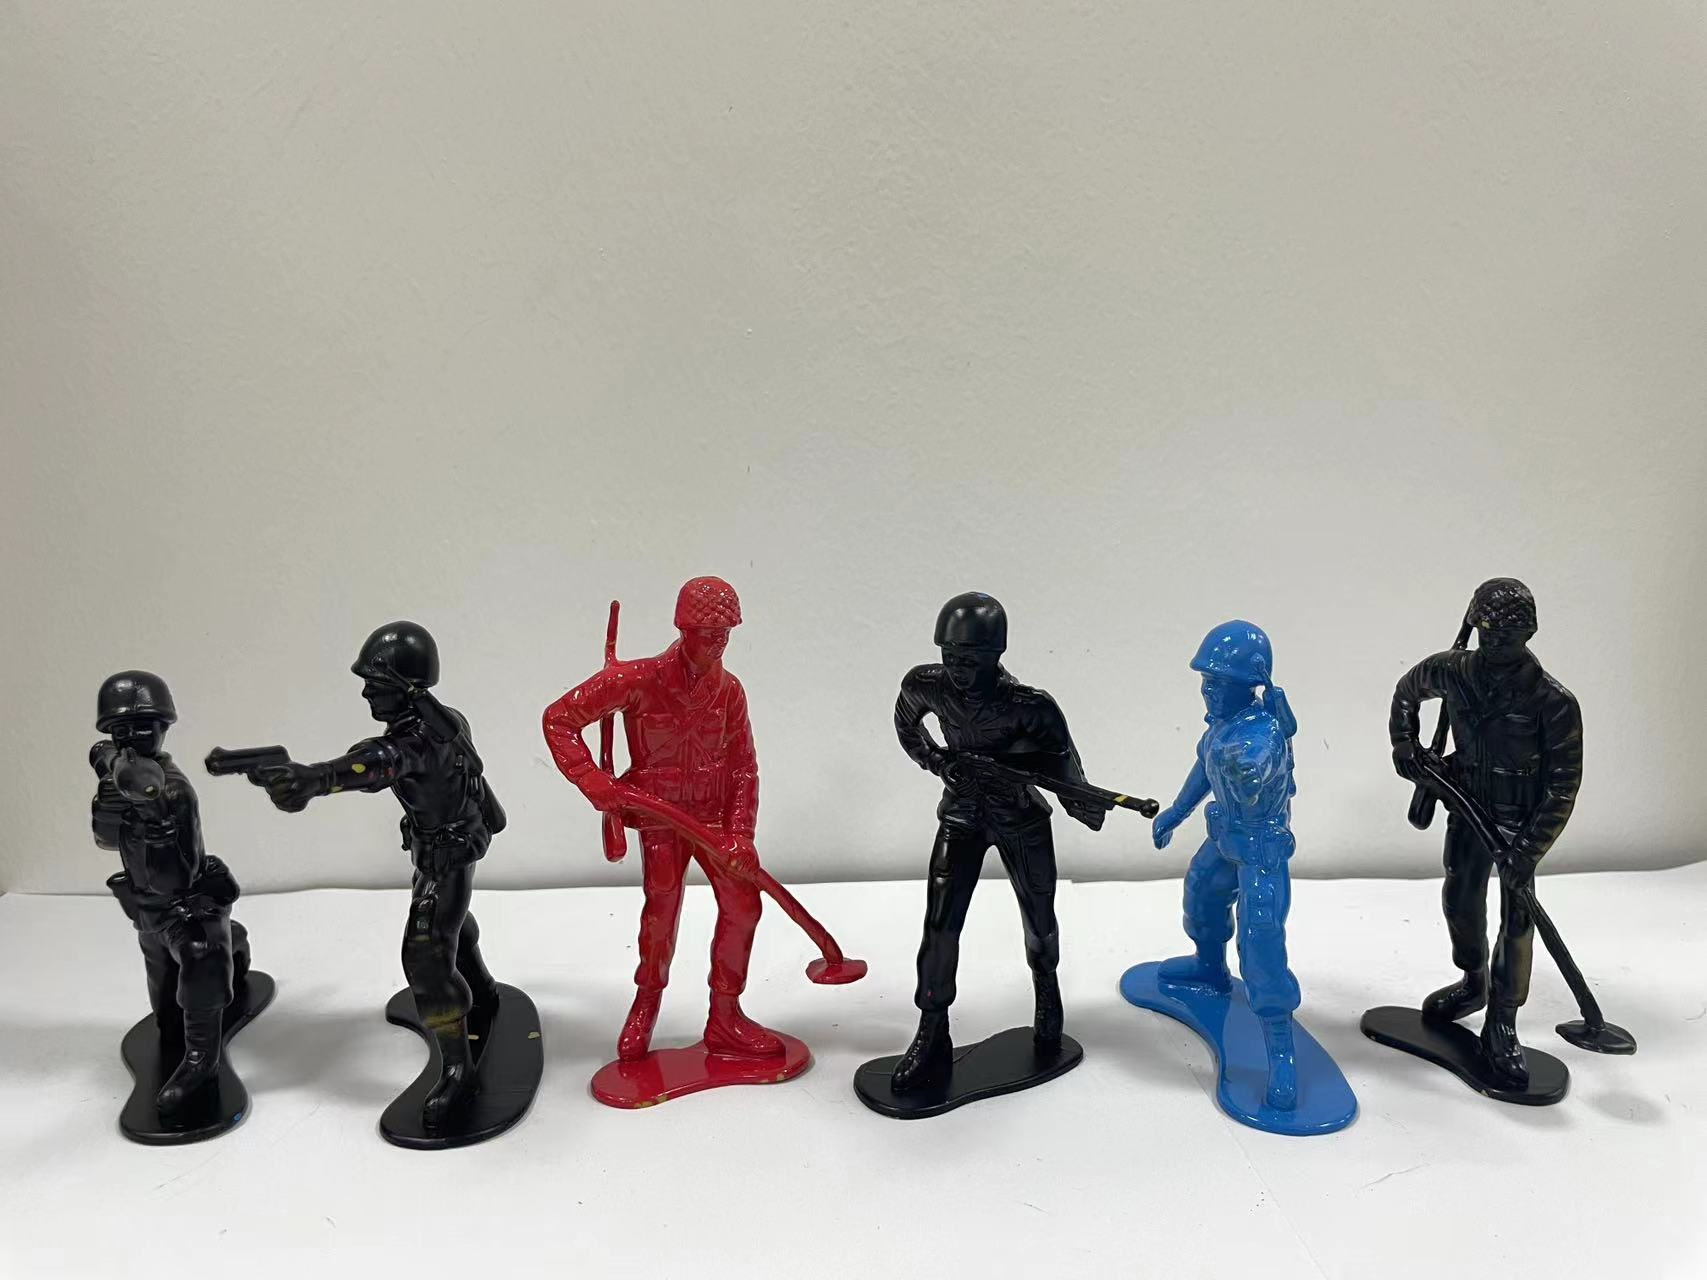black: (235, 573, 542, 1194), (1359, 546, 1641, 1152), (859, 567, 1108, 1133), (48, 651, 289, 1155)
blue: (1116, 573, 1344, 1155)
red: (526, 553, 847, 1150)
